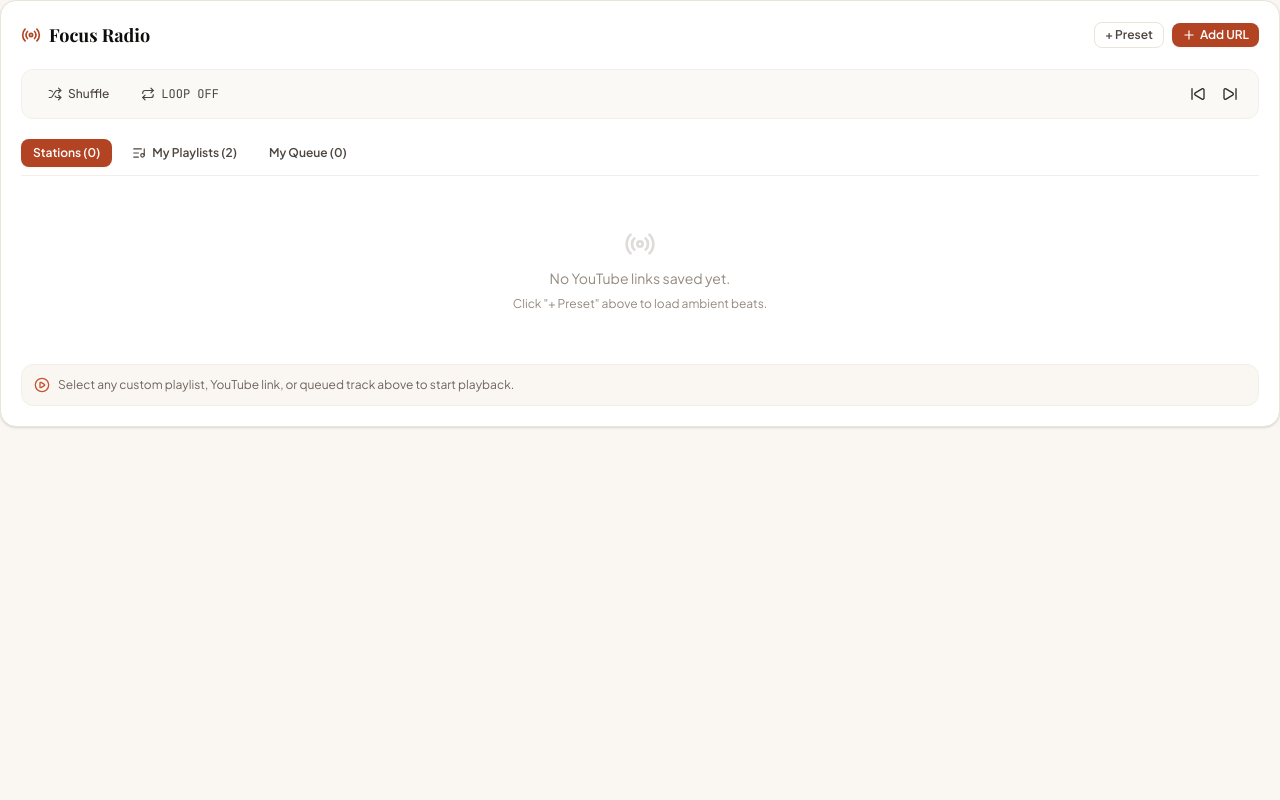
Scenario: Milestone 8: Focus Radio, Calendar Export & Remaining Settings › Focus Radio Player in FocusView › adds and tags a custom YouTube playlist in Focus Radio
# Click "Add URL"
Click the button "Add URL". click: point(1215, 35)
box: [1172,23,1259,47]
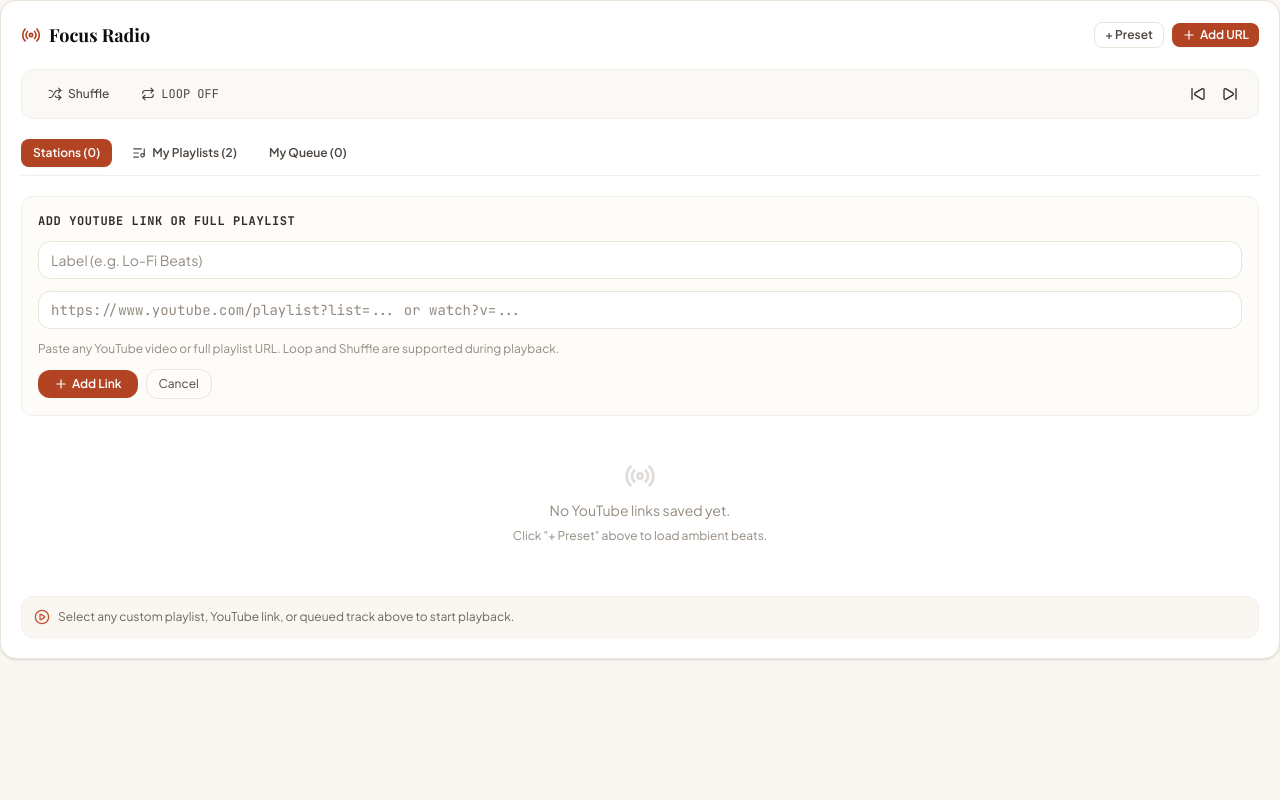
# Paste custom playlist
Type "https://www.youtube.com/playlist?list=PLofht4PTcKYnaH8w5gkDCAPqNGAW38VCG" into the field with placeholder "https://www.youtube.com/playlist?list=... or watch?v=...". click: point(640, 310)
box: [38,291,1242,329]
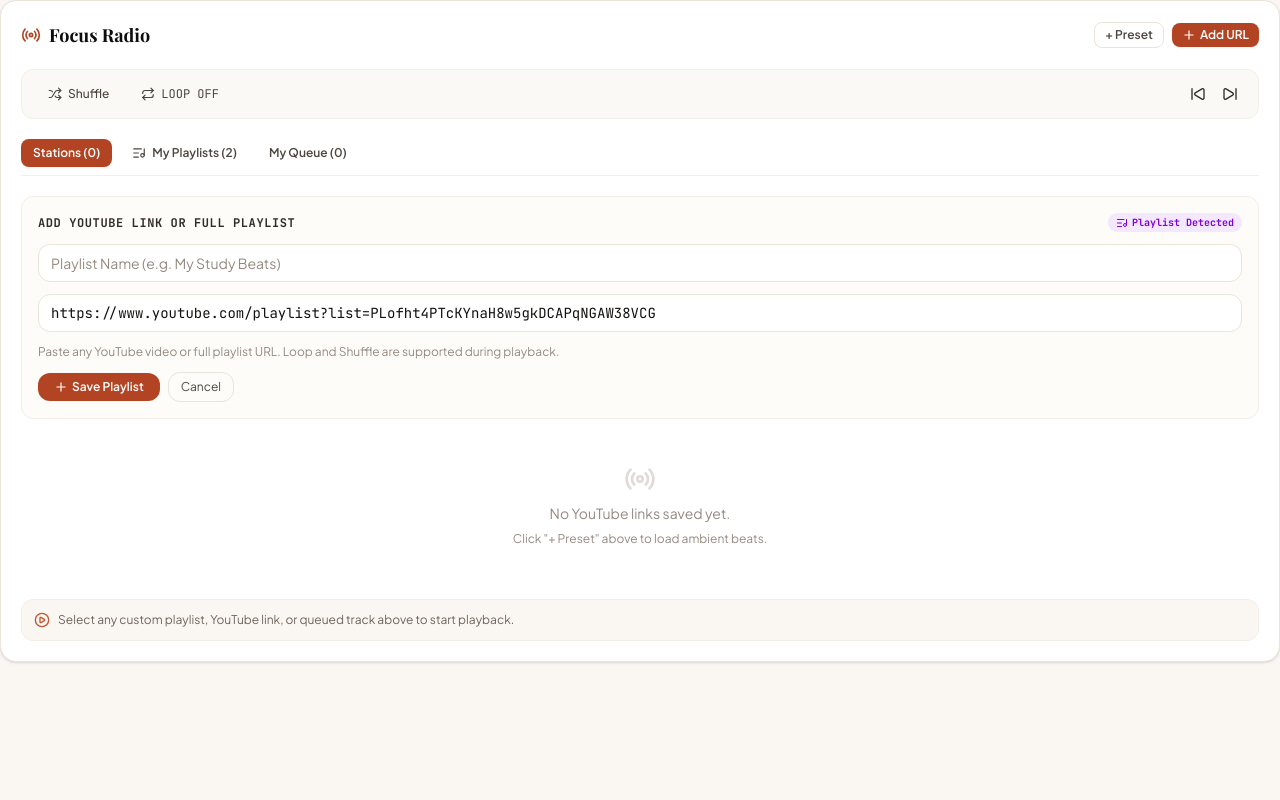
Type "Study Beats Playlist" into the field with placeholder "Playlist Name (e.g. My Study Beats)". click: point(640, 263)
box: [38,244,1242,282]
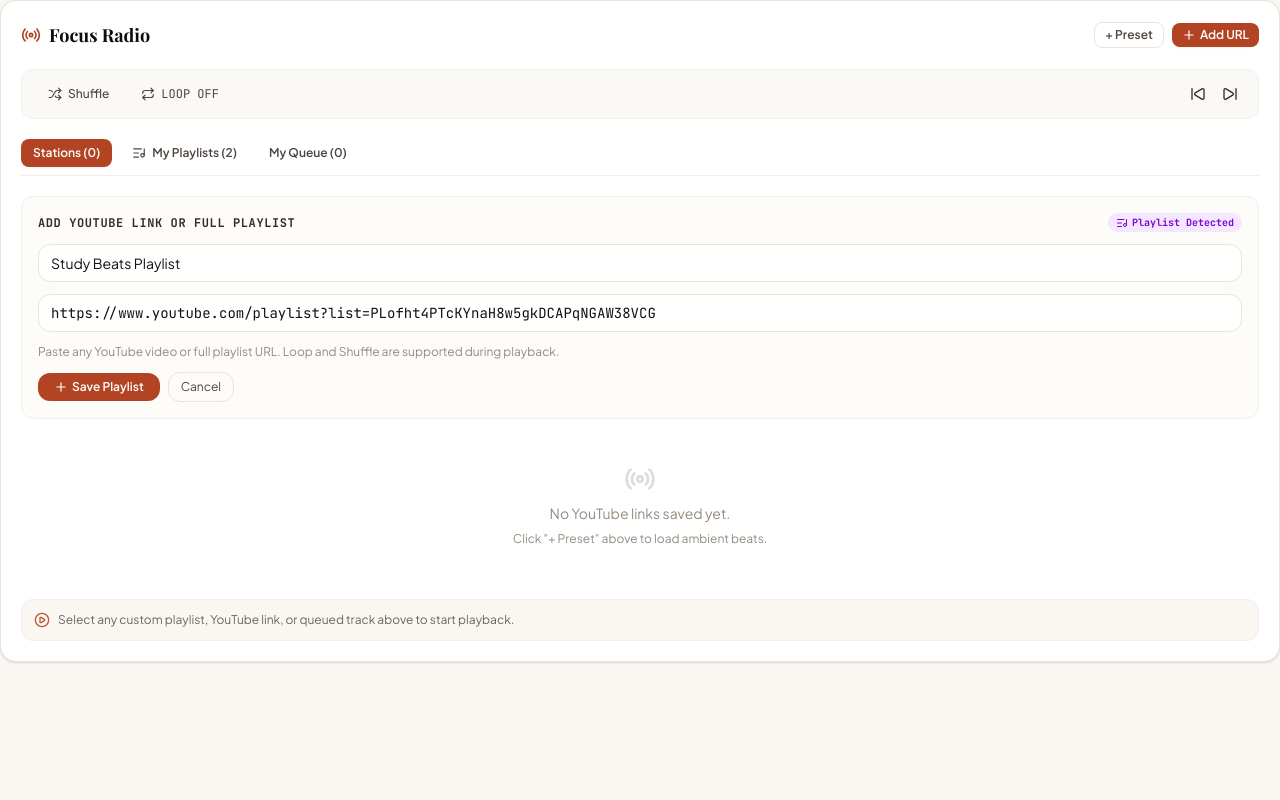
Now the text "Playlist Detected" is shown, box [1108,213,1242,232]
# Click "Save Playlist"
Click the button "Save Playlist". click: point(99, 387)
box: [38,373,160,401]
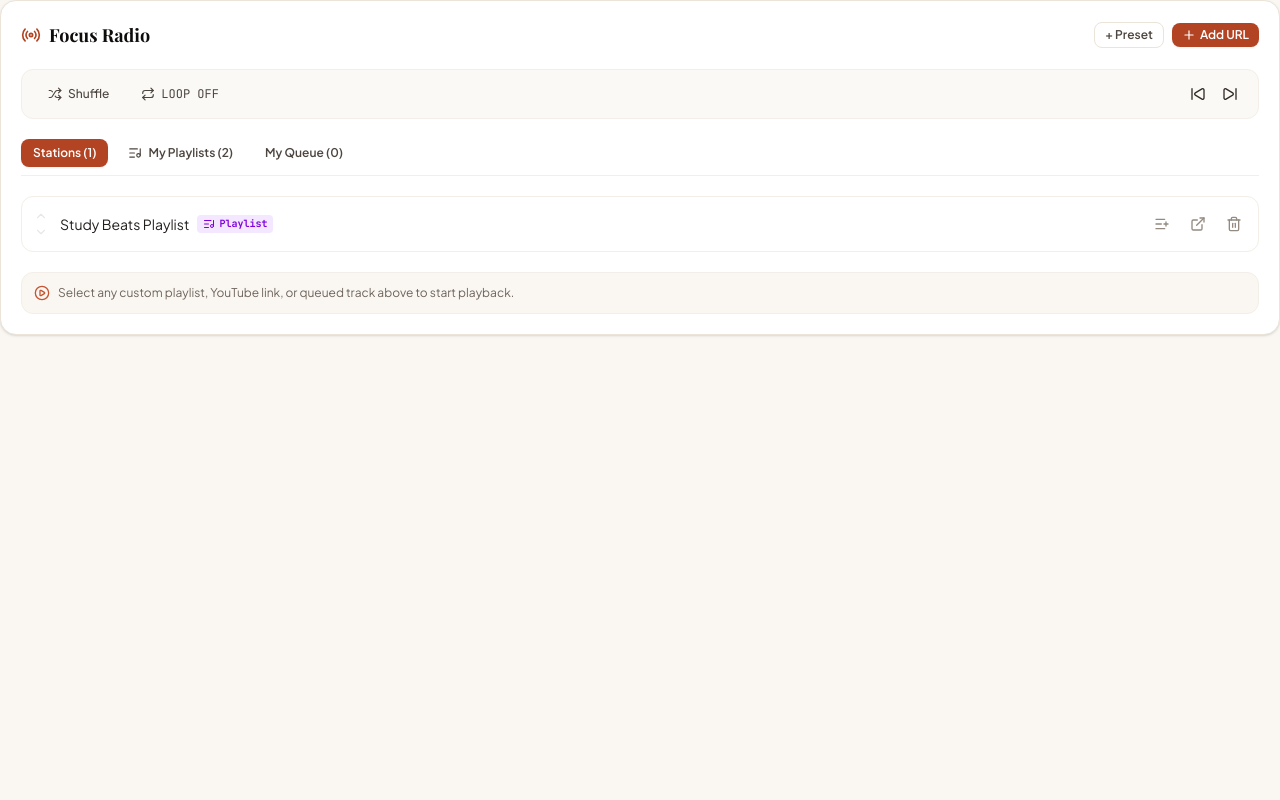
Now the text "Playlist" is shown, box [197,215,273,233]
Now the text "Study Beats Playlist" is shown, box [60,214,189,234]
